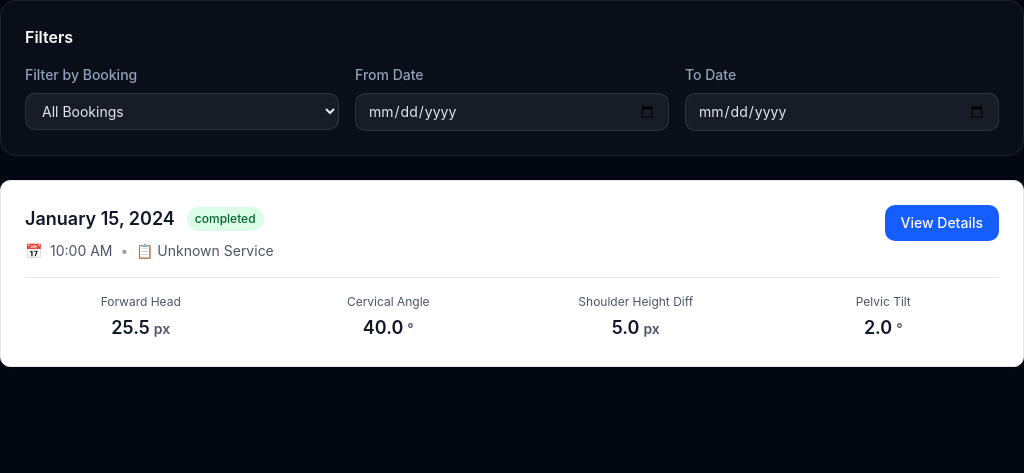
Test: AssessmentHistory › Empty State › should show different message when filters return no results
# Apply a filter that returns no results
Step 1. Select "non-existent-booking" in the dropdown labelled "Filter by Booking" → [182, 112], box [25,93,339,130]
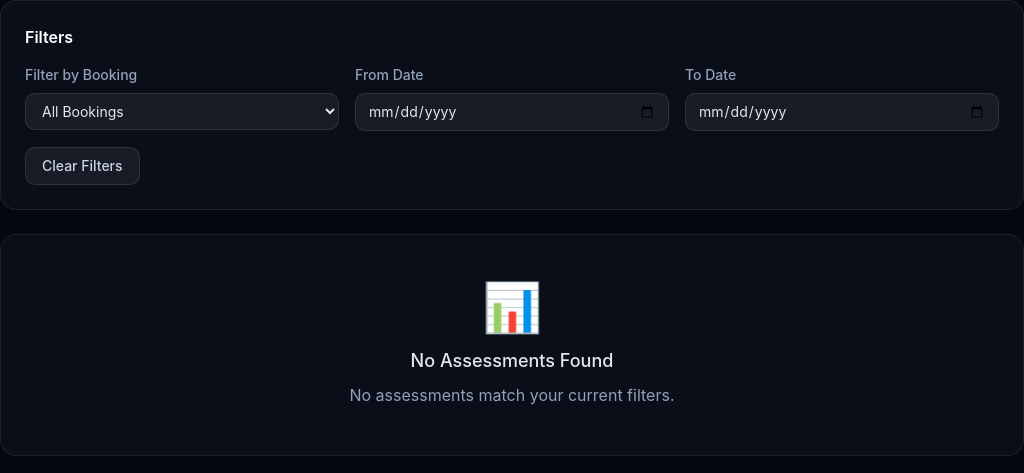
Expected: the text "No assessments match your current filters." is shown, [350,385,674,405]
